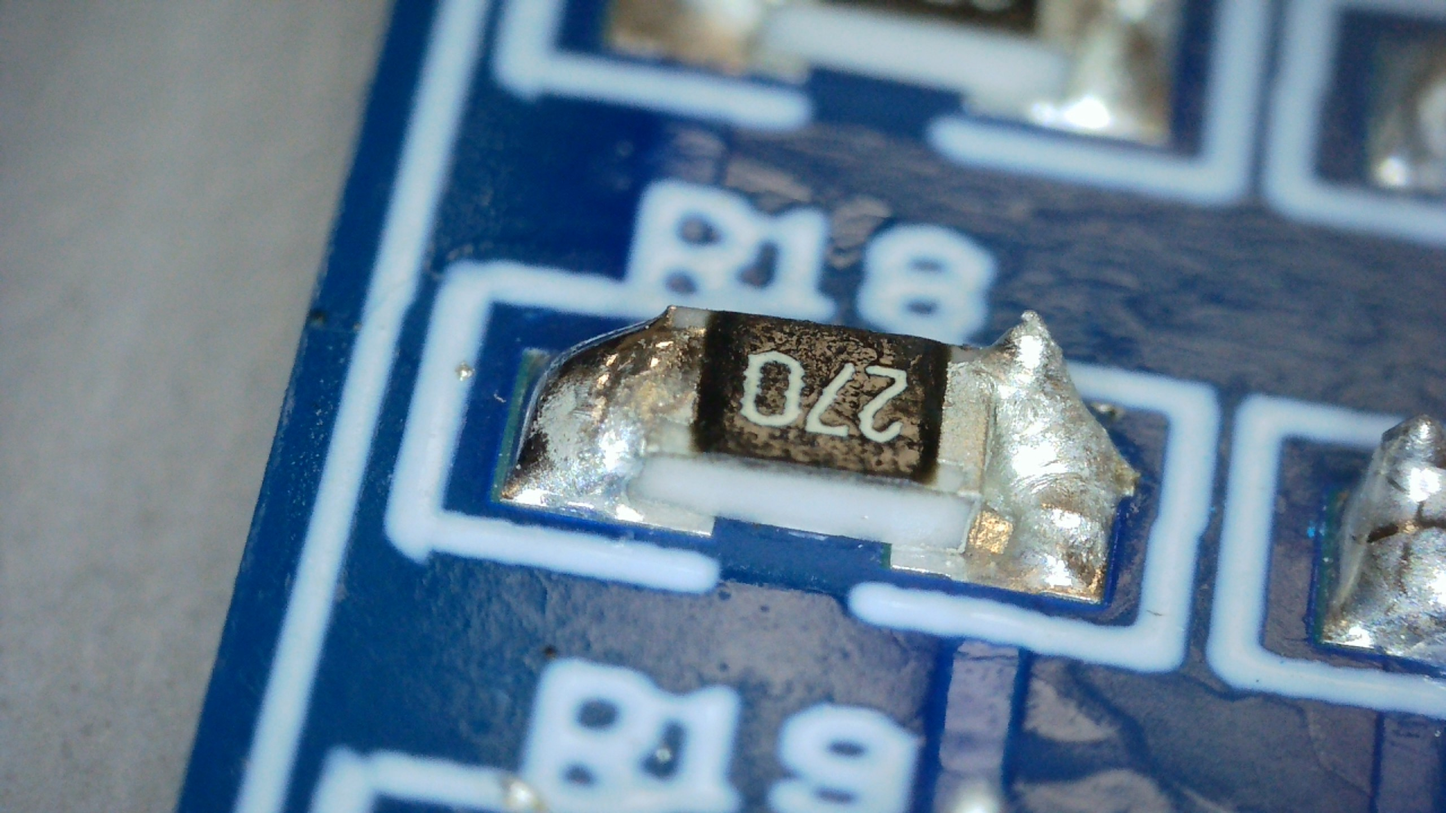NG: (982, 312, 1139, 598), (503, 307, 710, 519)
